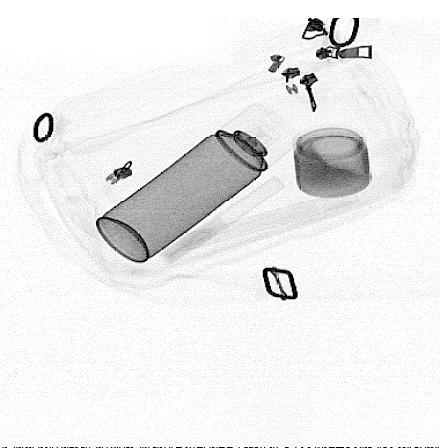Sprayer: (95, 101, 304, 265)
